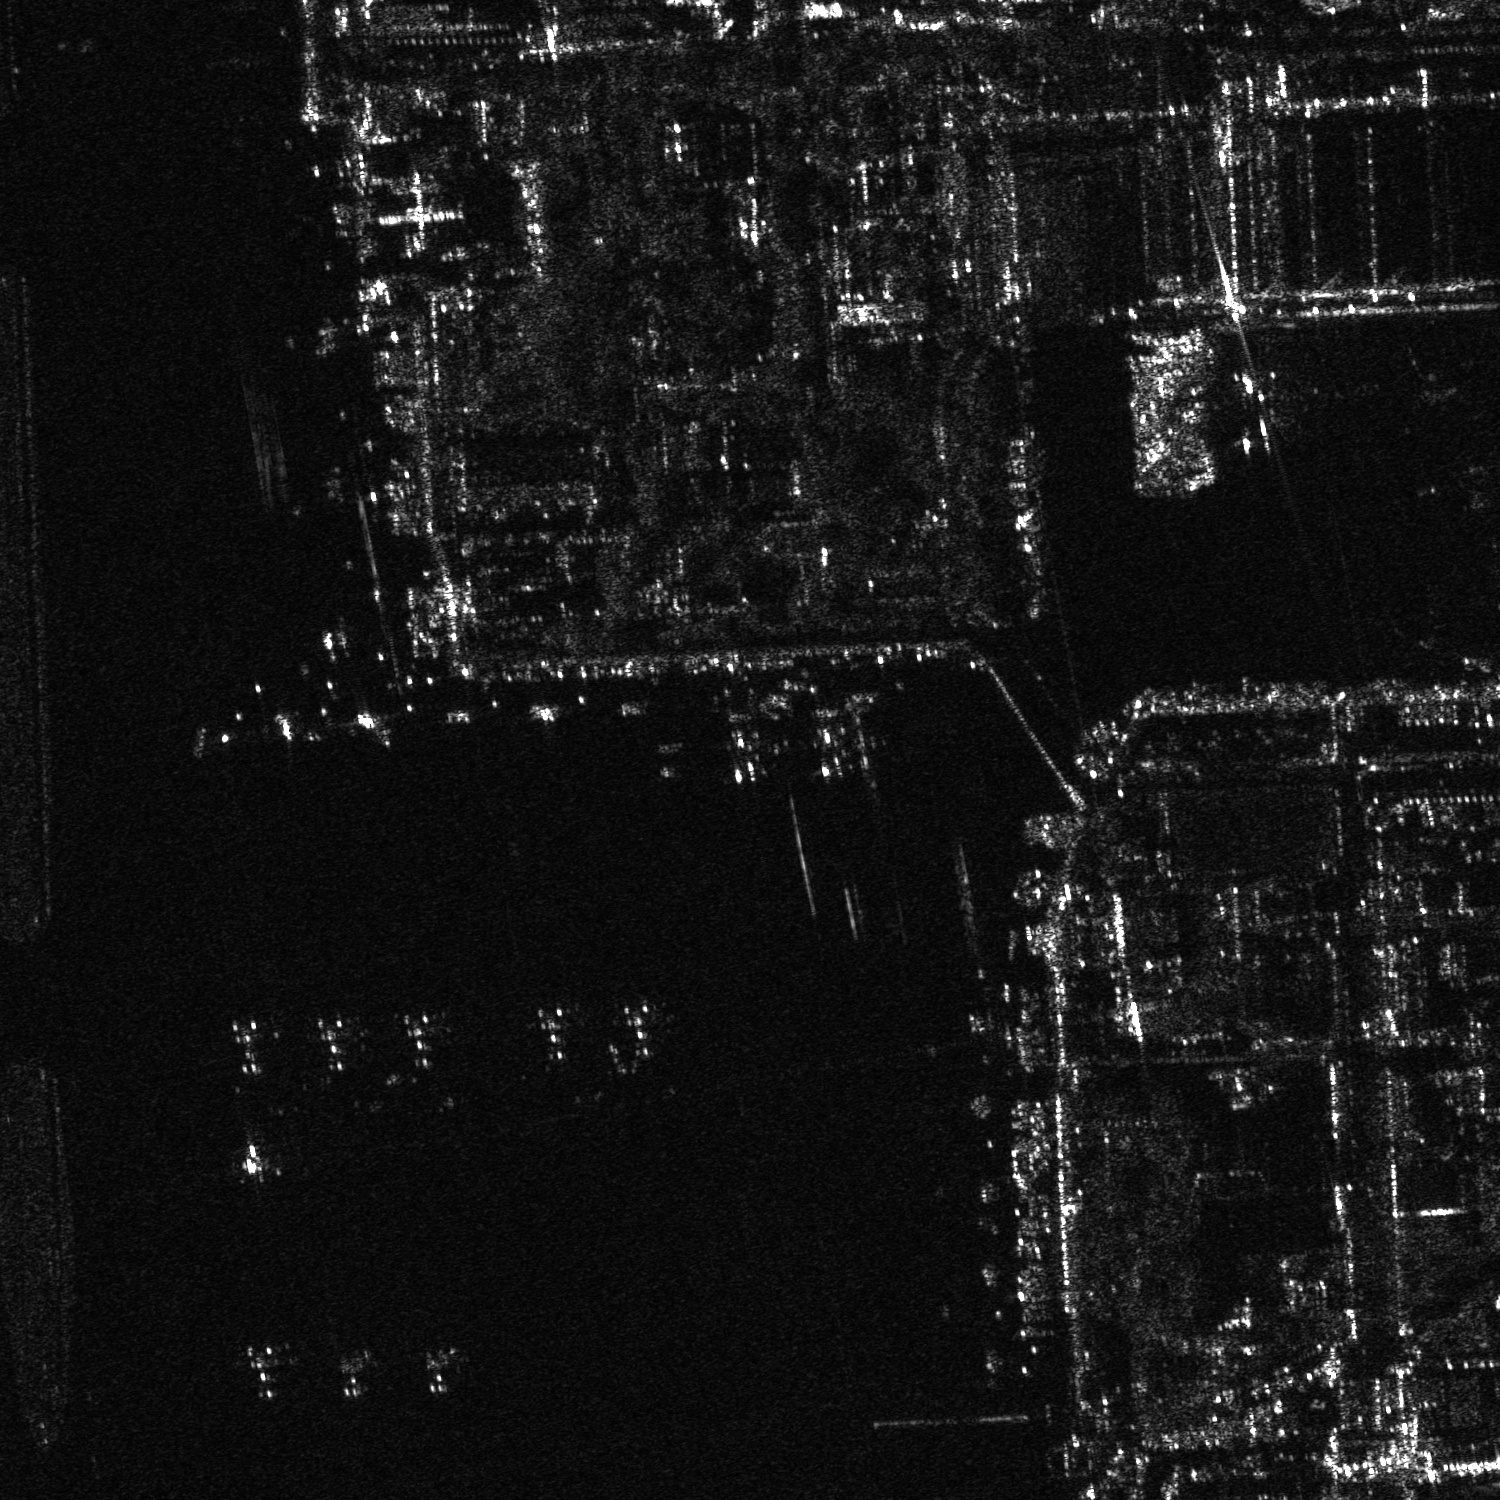A220: (331, 1346, 376, 1405)
A320/321: (408, 1342, 460, 1404)
ARJ21: (707, 709, 788, 786), (239, 1343, 299, 1407), (235, 1128, 283, 1181)
Boeing737: (1224, 354, 1297, 462), (797, 694, 856, 784)
other: (305, 1012, 354, 1081), (398, 1007, 446, 1071), (615, 999, 663, 1063), (526, 1005, 576, 1065), (228, 1014, 266, 1078), (54, 26, 109, 65)
